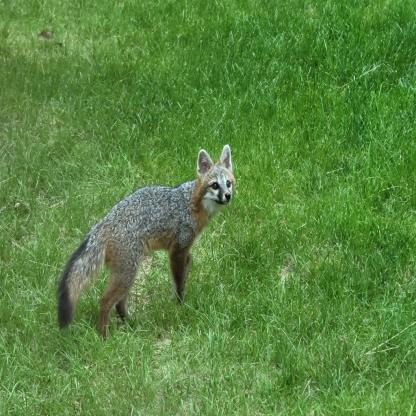zorro: (54, 140, 244, 340)
